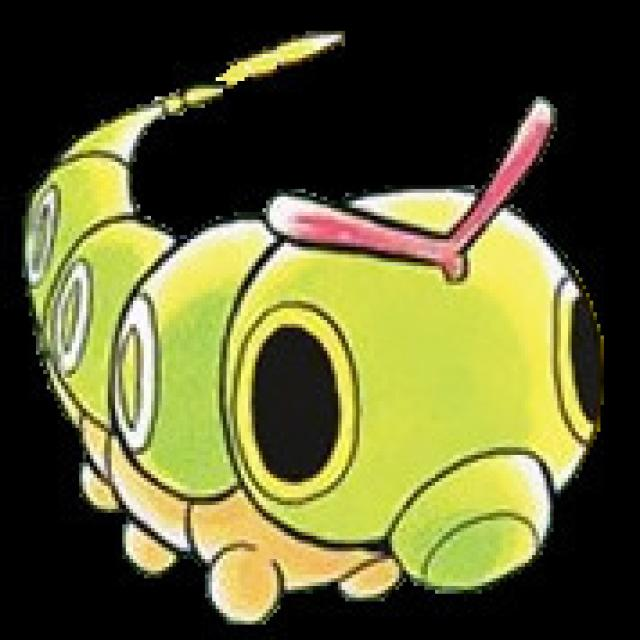Caterpie: (36, 118, 604, 602)
